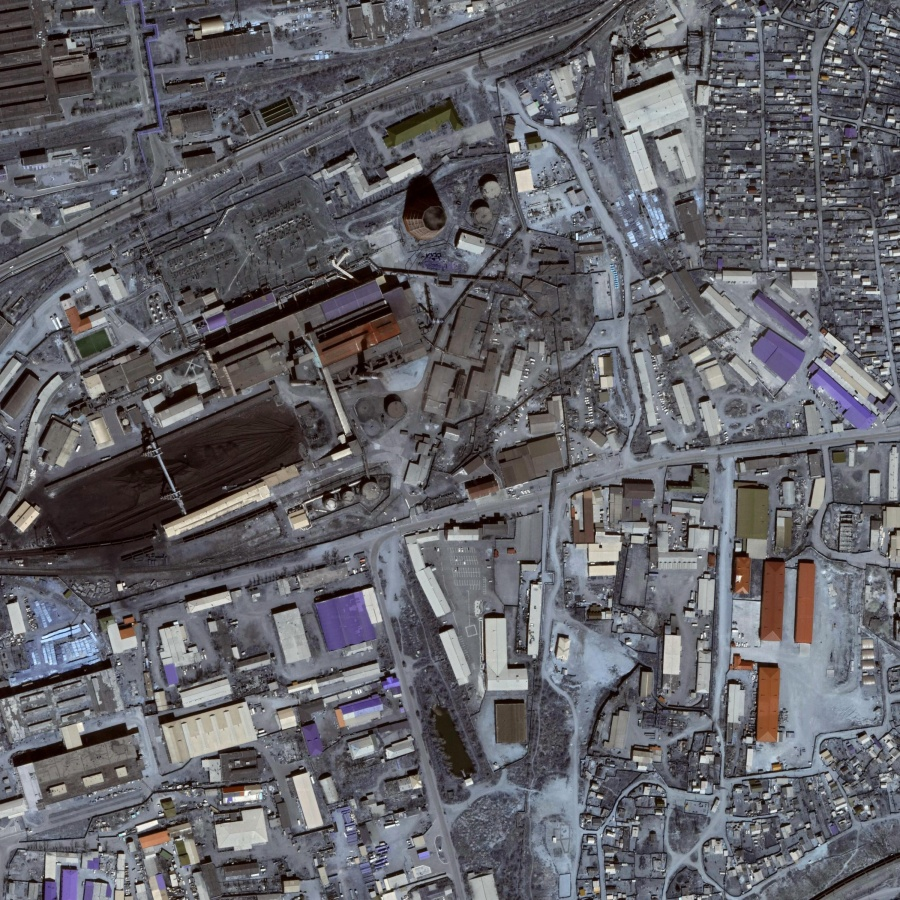PowerPlant: (29, 174, 510, 556)
